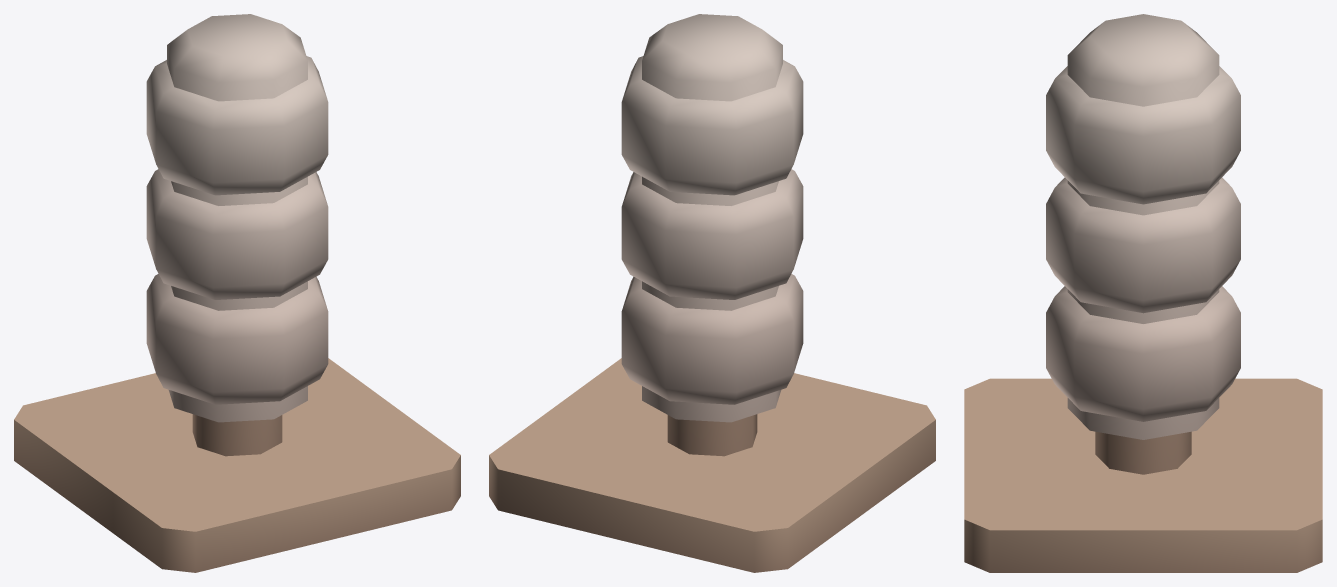
Rendered from cat-tower-scratch.glb.
The picture shows the model from 3 angles, left to right: view 1: azimuth 30°, elevation 25°; view 2: azimuth 150°, elevation 25°; view 3: azimuth 270°, elevation 25°; orthographic projection. The views are drawn at different scales.
Visible parts, largest first — view 1: cat-tower-scratch; view 2: cat-tower-scratch; view 3: cat-tower-scratch.
Boxes of the visible parts, x1,y1,x2,y2 form: cat-tower-scratch: (14, 14, 460, 572); cat-tower-scratch: (489, 14, 935, 572); cat-tower-scratch: (964, 14, 1322, 572).
Size of the model in its own units: 0.35 by 0.496 by 0.35.
